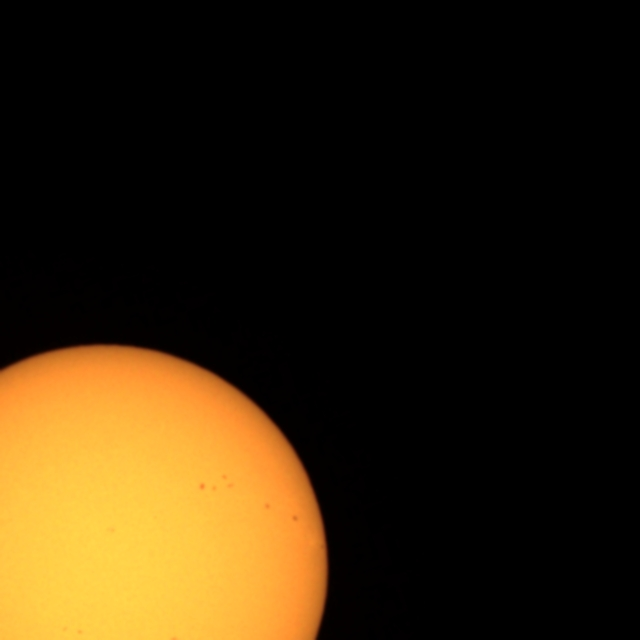sunspot: (197, 472, 238, 495), (60, 625, 85, 638), (262, 501, 272, 512), (290, 513, 300, 524)
